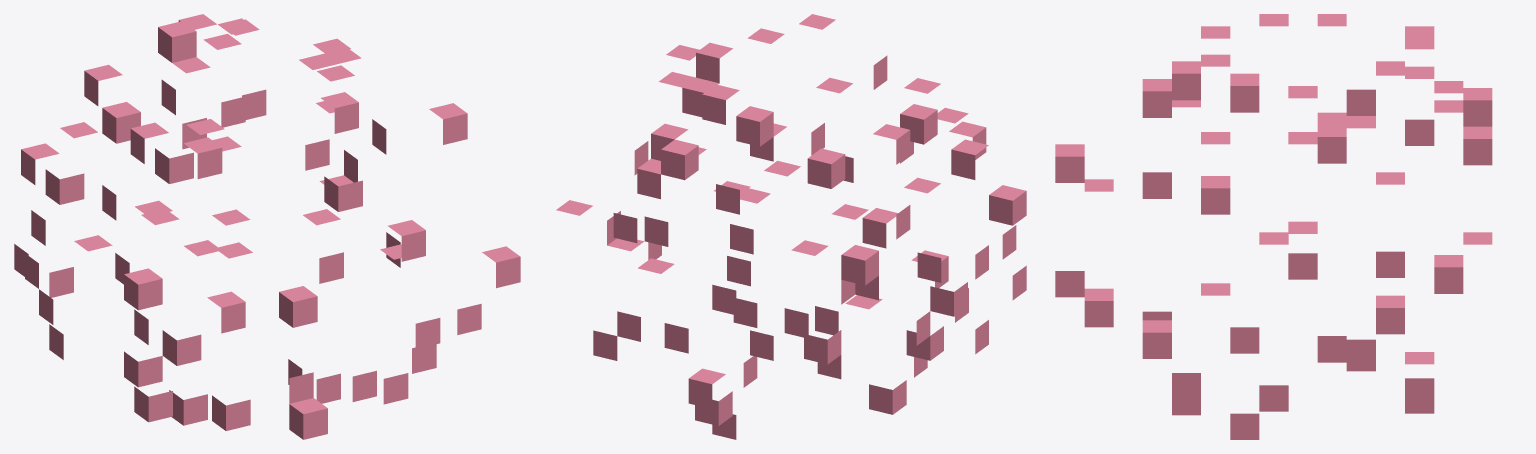
Rendered from tree-cherry-1p25-pink1-f28fab.gltf.
3 renders of one model, left to right at view 1: azimuth 30°, elevation 25°; view 2: azimuth 150°, elevation 25°; view 3: azimuth 270°, elevation 25°, orthographic. The views are drawn at different scales.
Parts seen in each view (by area): view 1: tree-cherry-1p25-pink1-f28fab; view 2: tree-cherry-1p25-pink1-f28fab; view 3: tree-cherry-1p25-pink1-f28fab.
Part boxes in pixels (bbox=[...]): tree-cherry-1p25-pink1-f28fab: bbox=[14, 14, 520, 439]; tree-cherry-1p25-pink1-f28fab: bbox=[556, 14, 1026, 439]; tree-cherry-1p25-pink1-f28fab: bbox=[1055, 14, 1492, 439].
Size of the model in its own units: 17 by 13 by 16.
